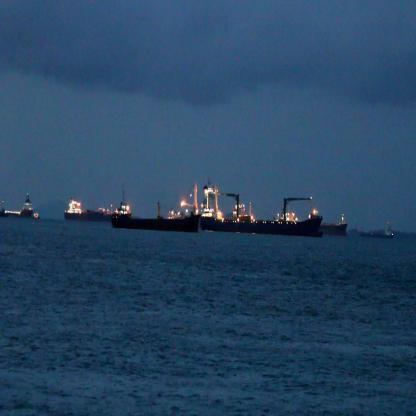Container Ship: (200, 182, 323, 236), (110, 182, 200, 231), (63, 196, 111, 222), (1, 190, 33, 219), (320, 211, 348, 237), (359, 222, 395, 240), (33, 212, 41, 221)
